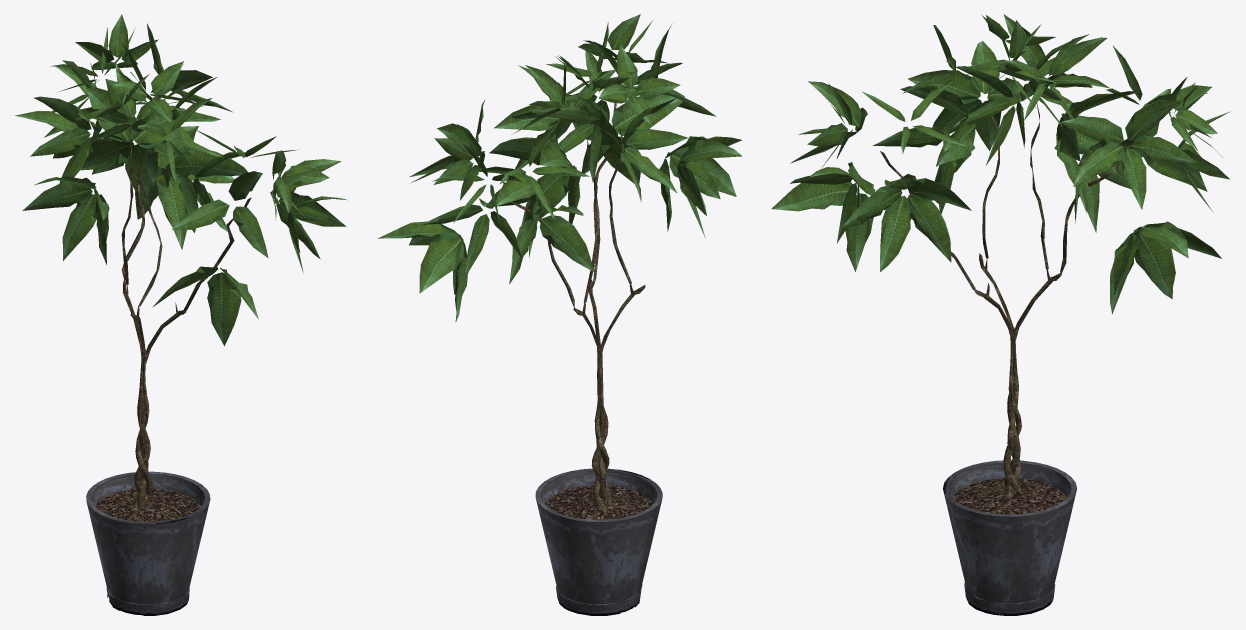
Rendered from plant_2.glb.
3 renders of one model, left to right at view 1: azimuth 30°, elevation 25°; view 2: azimuth 150°, elevation 25°; view 3: azimuth 270°, elevation 25°, orthographic. The views are drawn at different scales.
Parts seen in each view (by area): view 1: Plants_VOL01_02; view 2: Plants_VOL01_02; view 3: Plants_VOL01_02.
Part boxes in pixels (x1=…): Plants_VOL01_02: x1=15, y1=14, x2=348, y2=615; Plants_VOL01_02: x1=377, y1=14, x2=741, y2=615; Plants_VOL01_02: x1=771, y1=14, x2=1229, y2=615.
Size of the model in its own units: 0.8468 by 1.63 by 1.18.
7 materials, 7 textured.
